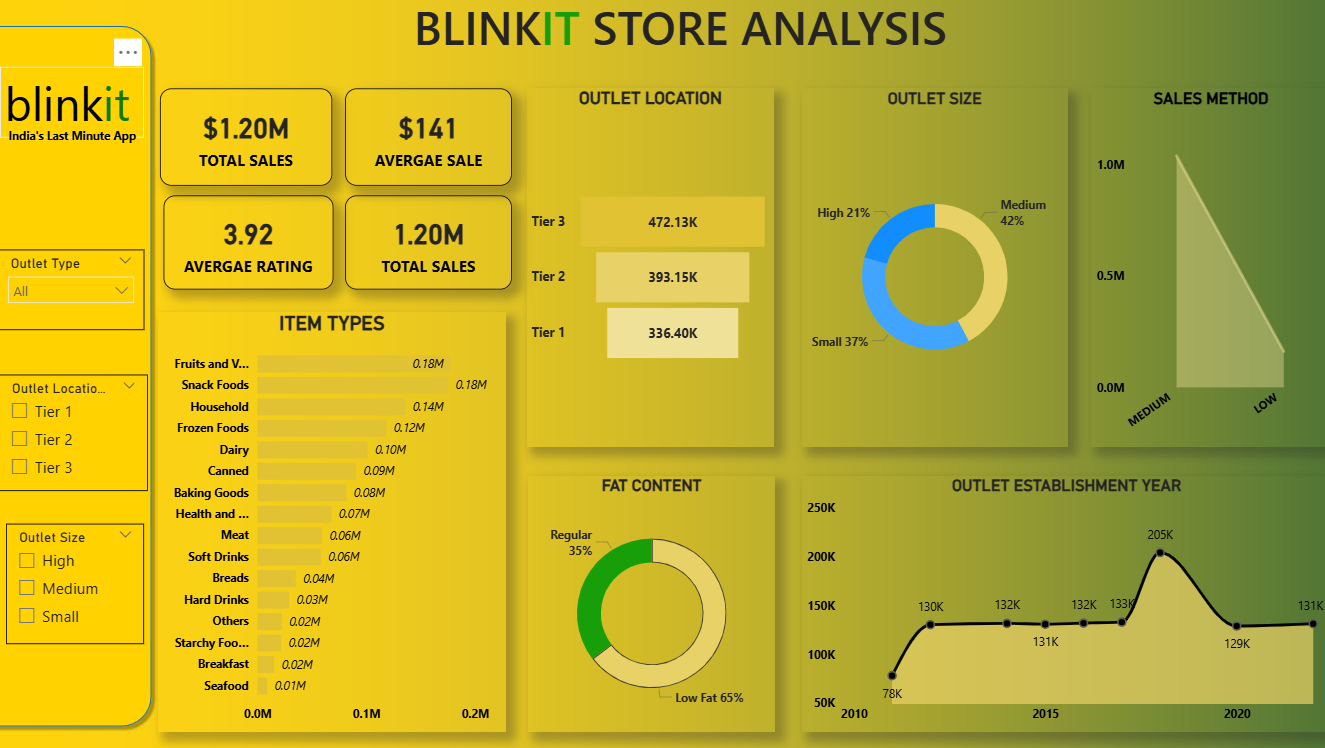

What the dashboard file says about the page in this screenshot:
{"tool":"powerbi","page":{"name":"Page 1","canvas":[1400,800],"ordinal":0},"visuals":[{"type":"shape","box":[0,30,176.9,743.1],"z":0},{"type":"textbox","box":[12.8,78.5,148.3,74.2],"z":1000},{"type":"textbox","box":[15.7,136.9,152.6,31.4],"z":1001},{"type":"donutChart","title":"FAT CONTENT","fields":{"Y":["Sum(Table1.Sales)"],"Category":["Table1.Item Fat Content"]},"box":[563.4,504.9,258.2,268.2],"z":1003},{"type":"clusteredBarChart","title":"ITEM TYPES","fields":{"Category":["Table1.Item Type"],"Y":["Sum(Table1.Sales)"]},"box":[176.9,335.2,363.7,437.9],"z":1005},{"type":"areaChart","title":"OUTLET ESTABLISHMENT YEAR","fields":{"Category":["Table1.Outlet Establishment Year"],"Y":["Table1.Total Sales"]},"box":[848.7,504.9,552,268.2],"z":1006},{"type":"donutChart","title":"OUTLET SIZE","fields":{"Y":["Sum(Table1.Sales)"],"Category":["Table1.Outlet Size"]},"box":[848.7,101.3,276.7,373.7],"z":1007},{"type":"funnel","title":"OUTLET LOCATION","fields":{"Category":["Table1.Outlet Location Type"],"Y":["Sum(Table1.Sales)"]},"box":[562,101.3,258.2,373.7],"z":1008},{"type":"textbox","box":[182.6,0,1091.2,77],"z":1009},{"type":"actionButton","box":[0,0,100,40],"z":1011},{"type":"card","fields":{"Values":["Table1.Total Sales"]},"box":[179.7,101.3,179.7,101.3],"z":1012},{"type":"card","fields":{"Values":["Table1.Total Sales"]},"box":[372.3,212.5,174,98.4],"z":1013},{"type":"card","fields":{"Values":["Table1.Average Rating"]},"box":[182.6,212.5,176.9,98.4],"z":1014},{"type":"card","fields":{"Values":["Table1.Average Sales"]},"box":[372.3,101.3,174,101.3],"z":1015},{"type":"areaChart","title":"SALES METHOD","fields":{"Category":["Table1.Sales Method"],"Y":["Sum(Table1.Sales)"]},"box":[1149.7,101.3,251,373.7],"z":1016},{"type":"slicer","fields":{"Values":["Table1.Outlet Type"]},"box":[10,269.6,152.6,84.2],"z":1017},{"type":"slicer","fields":{"Values":["Table1.Outlet Location Type"]},"box":[11.4,399.4,155.5,121.2],"z":1018},{"type":"slicer","fields":{"Values":["Table1.Outlet Size"]},"box":[18.5,554.9,144.1,125.5],"z":1019}]}

Visuals, with their boxes in screenshot pixels (x1, y1, x2, y2), scaled from the page's 1400x800 canvas onto the 1325x748 screenshot:
shape: 0/28/167/723
textbox: 12/73/152/143
textbox: 15/128/159/157
"FAT CONTENT" donutChart: 533/472/778/723
"ITEM TYPES" clusteredBarChart: 167/313/512/723
"OUTLET ESTABLISHMENT YEAR" areaChart: 803/472/1324/723
"OUTLET SIZE" donutChart: 803/95/1065/444
"OUTLET LOCATION" funnel: 532/95/776/444
textbox: 173/0/1206/72
actionButton: 0/0/95/37
card - Table1.Total Sales: 170/95/340/189
card - Table1.Total Sales: 352/199/517/291
card - Table1.Average Rating: 173/199/340/291
card - Table1.Average Sales: 352/95/517/189
"SALES METHOD" areaChart: 1088/95/1324/444
slicer - Table1.Outlet Type: 9/252/154/331
slicer - Table1.Outlet Location Type: 11/373/158/487
slicer - Table1.Outlet Size: 18/519/154/636
